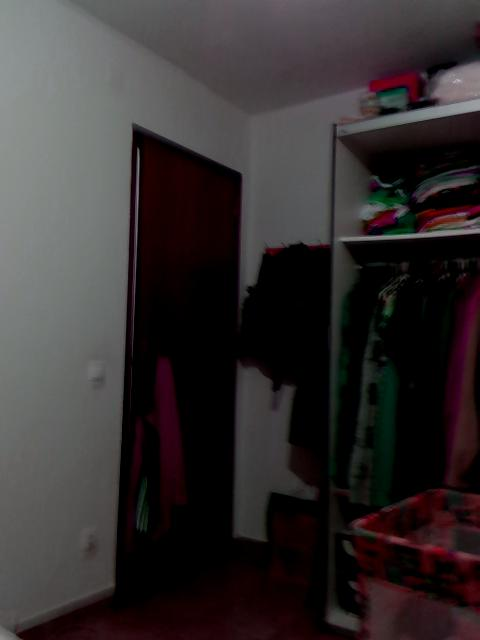closed_door: (114, 121, 248, 602)
